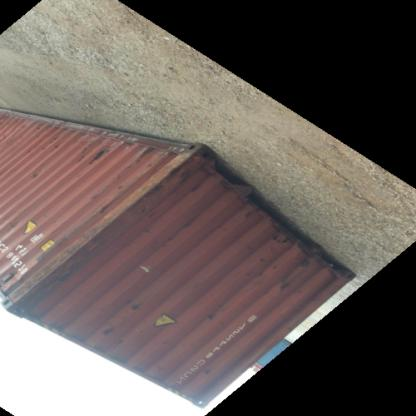Damage: (16, 224, 111, 310), (138, 169, 204, 215), (18, 119, 66, 156), (90, 177, 130, 221), (121, 134, 169, 168), (72, 140, 114, 178), (282, 254, 318, 296), (201, 300, 227, 332), (253, 257, 280, 285), (265, 228, 296, 252), (98, 323, 124, 344), (242, 204, 266, 225), (201, 360, 219, 384), (128, 300, 148, 316), (26, 168, 42, 186)
